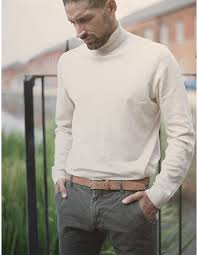F_belt: (60, 169, 153, 197)
